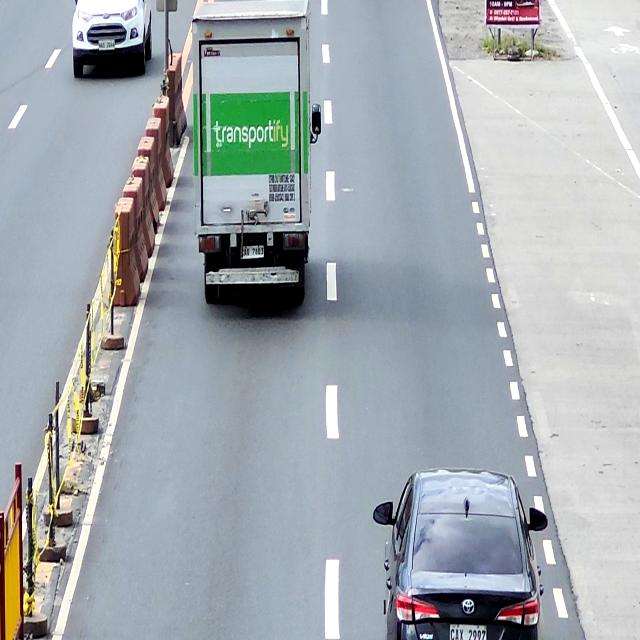Car: (372, 468, 548, 640), (72, 0, 152, 78)
License-Plate: (447, 621, 488, 640), (239, 243, 266, 260), (96, 38, 116, 52)
Truck: (191, 0, 320, 304)
